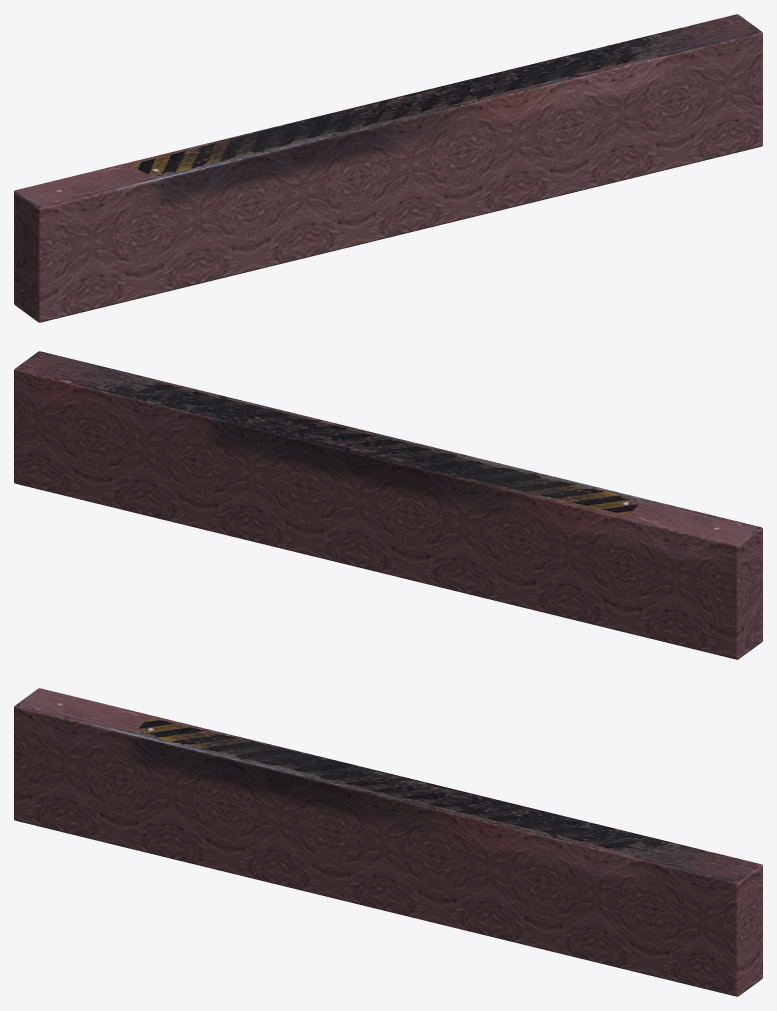
3 renders of one model, top to bottom at view 1: azimuth 30°, elevation 25°; view 2: azimuth 150°, elevation 25°; view 3: azimuth 330°, elevation 25°, orthographic.
Parts seen in each view (by area): view 1: Marina blue door | flush sill between landings; view 2: Marina blue door | flush sill between landings; view 3: Marina blue door | flush sill between landings.
Part boxes in pixels (x1,y1,x2,y2): Marina blue door | flush sill between landings: (14, 14, 762, 322); Marina blue door | flush sill between landings: (14, 351, 762, 659); Marina blue door | flush sill between landings: (14, 688, 762, 996).
Bounding box in the file's own units: 0.911 × 0.138 × 0.056.
Materials: 1 (1 with a texture image).
